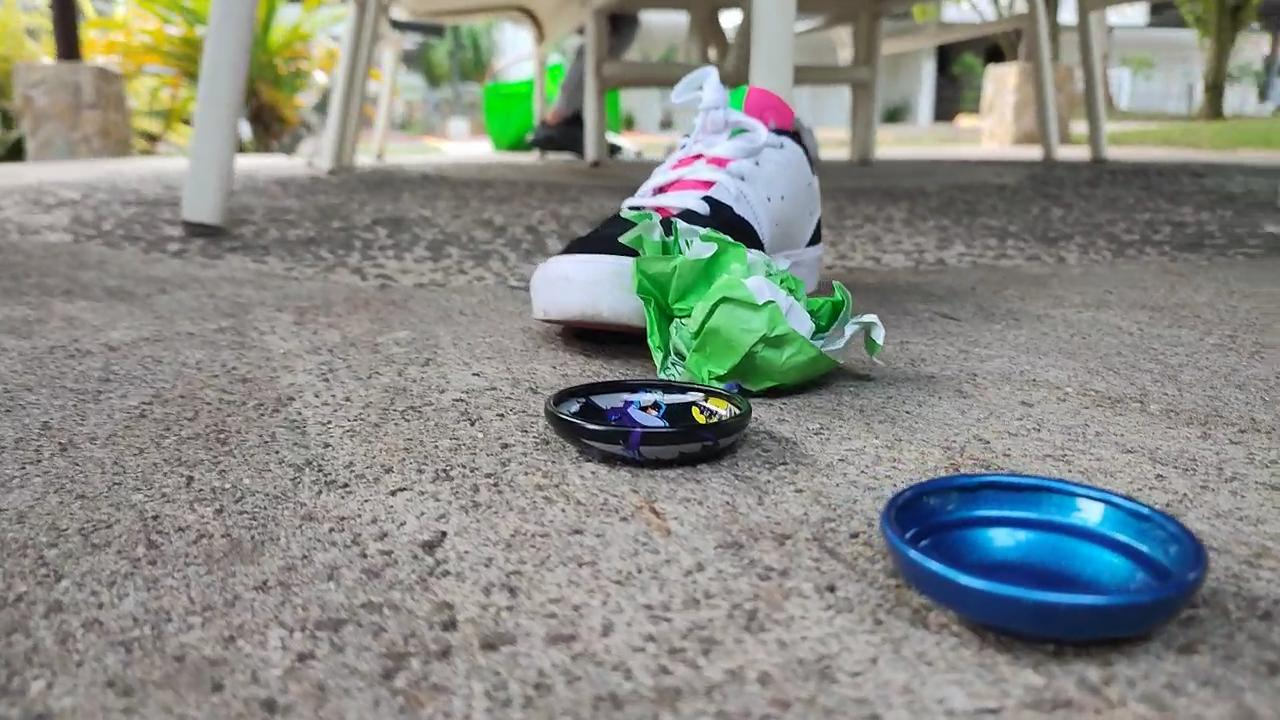Paper: (621, 201, 892, 384)
